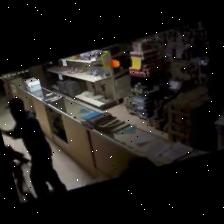person: (1, 97, 67, 197)
